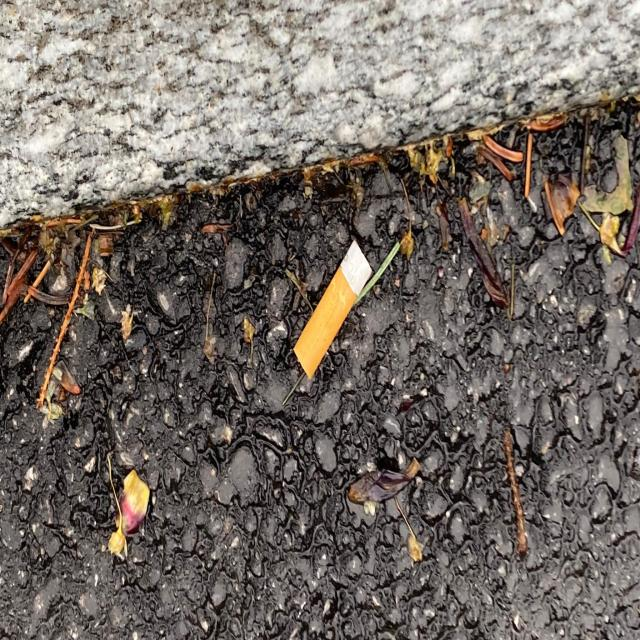other waste: (292, 236, 372, 385)
